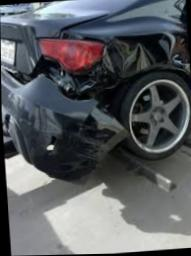Bumper: (7, 85, 93, 162)
Fender: (112, 32, 174, 74)
